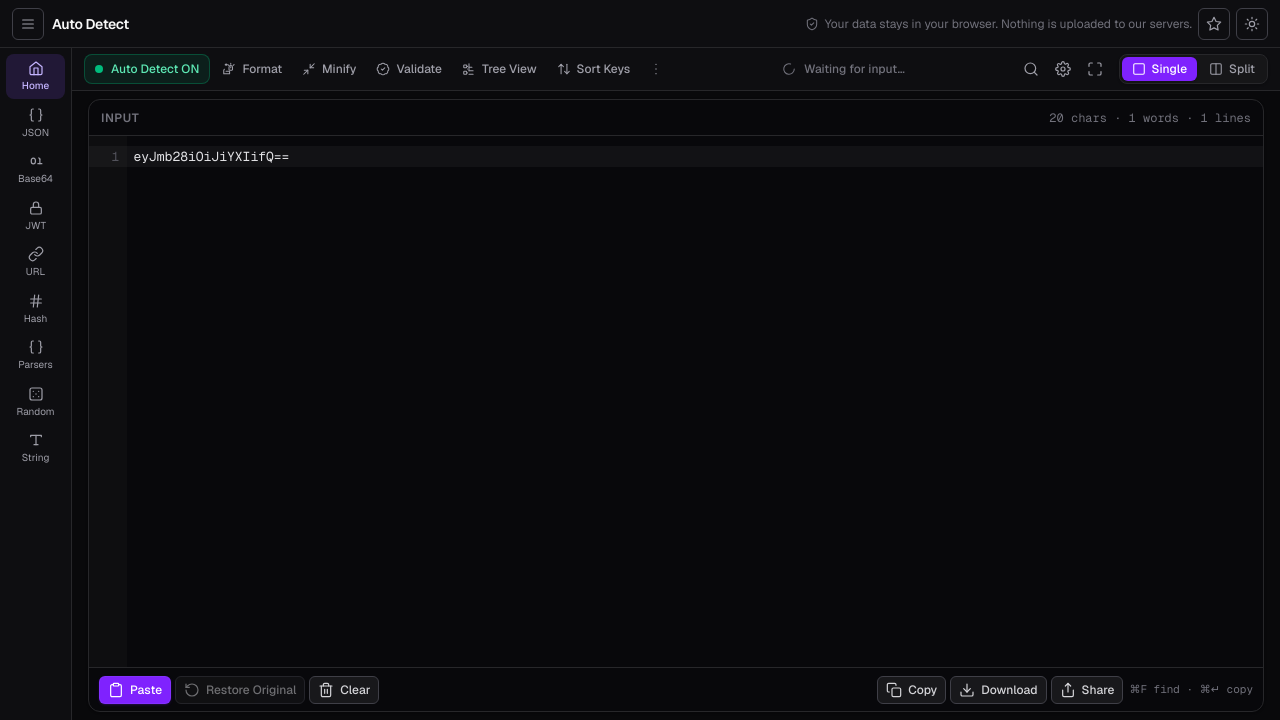
Test: Workspace — manual tools and Auto Detect toggle › turning Auto Detect off stops auto-processing and keeps raw input
Click the switch labelled "Auto Detect ON": (147, 69) [84, 54, 210, 84]
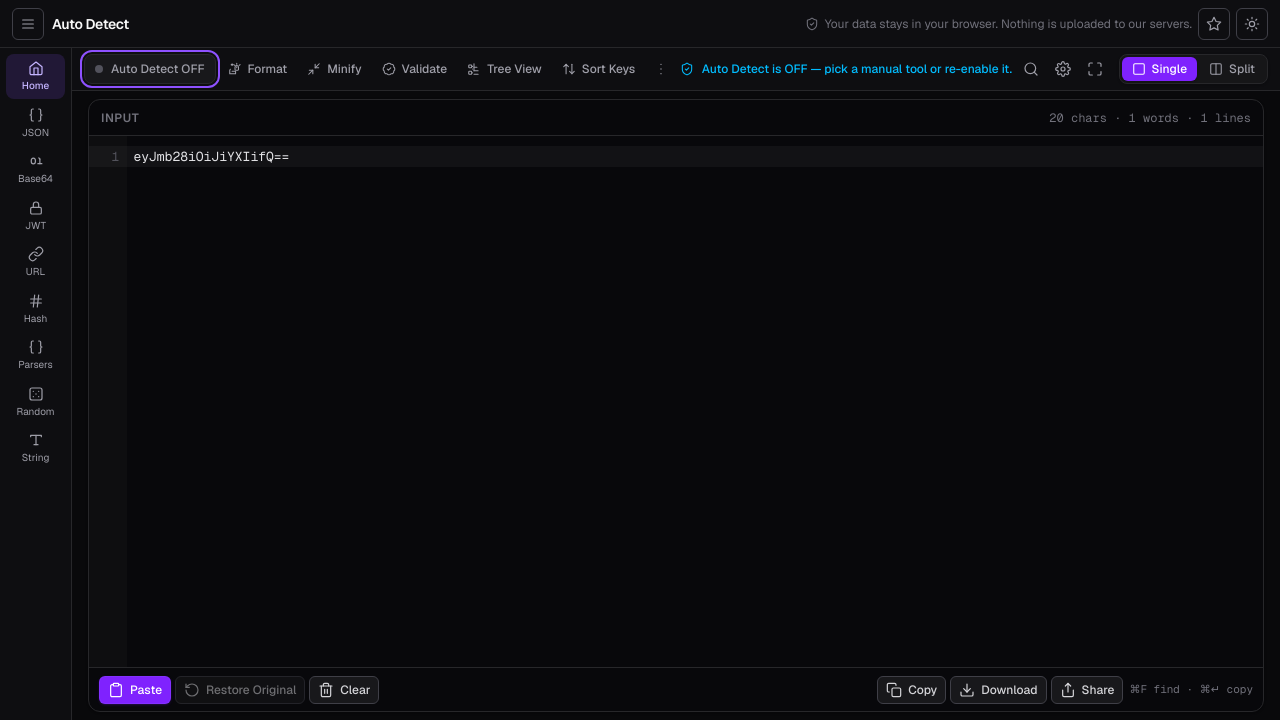
Expected: the text box labelled "eyJmb28iOiJiYXIifQ==" is shown, [127, 146, 1263, 167]
Expected: the message shows "Auto Detect is OFF", [702, 61, 1012, 77]
